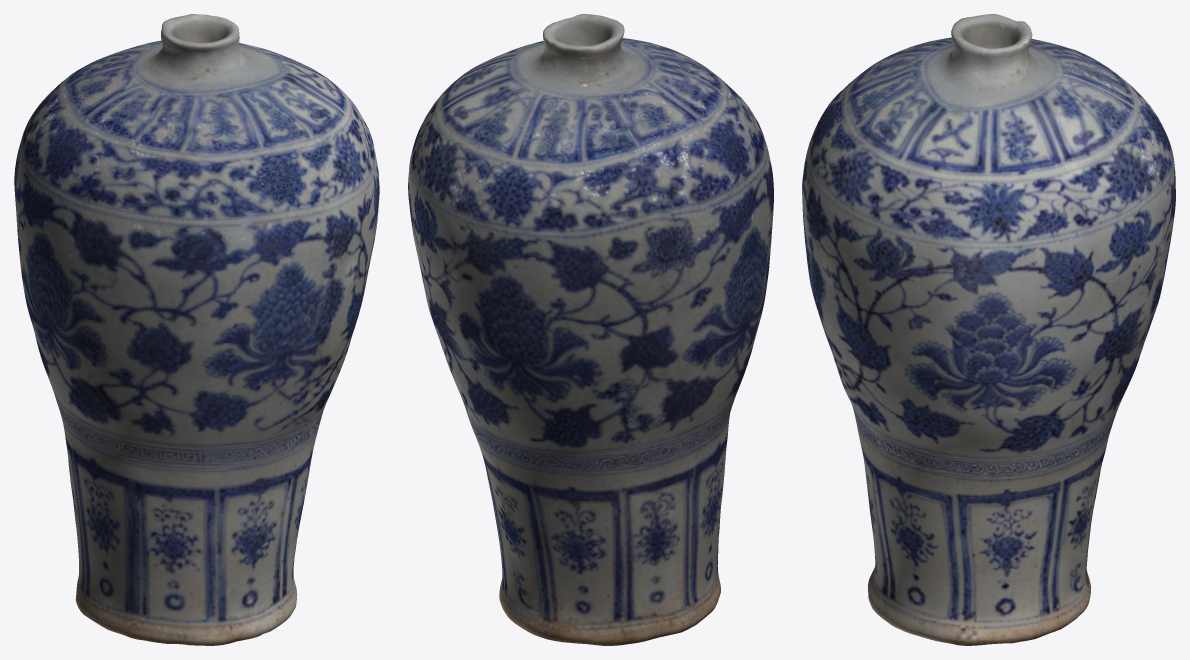
File: meiping.fbx
3 views of the same model, side by side, from view 1: azimuth 30°, elevation 25°; view 2: azimuth 150°, elevation 25°; view 3: azimuth 270°, elevation 25° (orthographic).
Parts seen in each view (by area): view 1: tripo_bac06ab5-c380-4147-96a5-9dcf95b4d93e; view 2: tripo_bac06ab5-c380-4147-96a5-9dcf95b4d93e; view 3: tripo_bac06ab5-c380-4147-96a5-9dcf95b4d93e.
Boxes of the visible parts, x1=… form: tripo_bac06ab5-c380-4147-96a5-9dcf95b4d93e: x1=14, y1=14, x2=379, y2=645; tripo_bac06ab5-c380-4147-96a5-9dcf95b4d93e: x1=408, y1=14, x2=773, y2=645; tripo_bac06ab5-c380-4147-96a5-9dcf95b4d93e: x1=802, y1=14, x2=1175, y2=645.
Size of the model in its own units: 52.81 by 90.47 by 52.73.
1 material, 1 textured.
